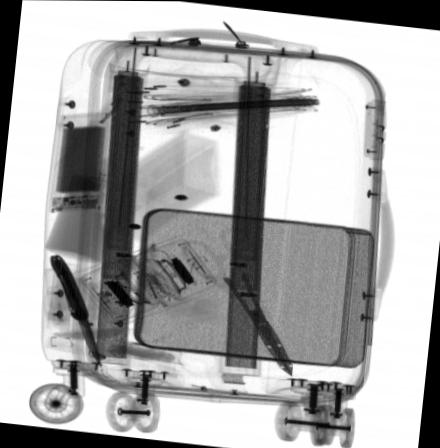Knife: (50, 252, 104, 365)
Powerbank: (50, 110, 111, 208)
Scissors: (181, 223, 294, 376)
